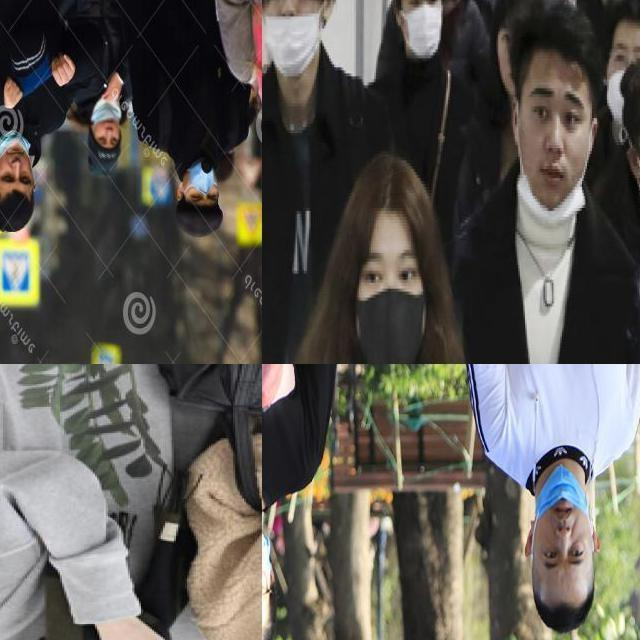hairnet: (519, 131, 588, 229), (263, 0, 313, 74), (537, 467, 586, 540), (0, 133, 36, 170), (94, 106, 122, 138)
